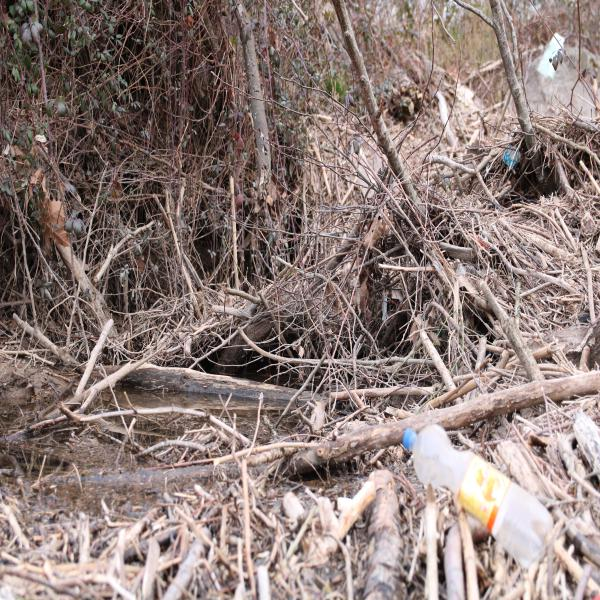bottles: (402, 424, 554, 570)
others: (536, 32, 566, 79), (502, 143, 522, 167), (381, 291, 387, 323)
